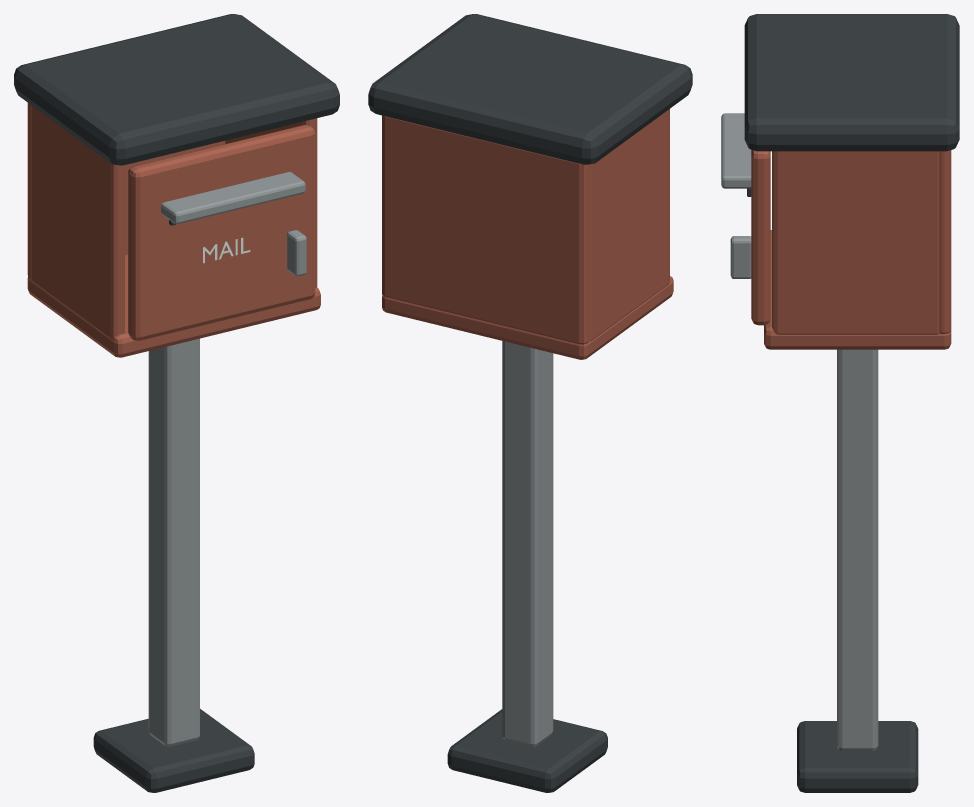
File: MS_SP_11_Mailbox.glb
3 views of the same model, side by side, from view 1: azimuth 30°, elevation 25°; view 2: azimuth 150°, elevation 25°; view 3: azimuth 270°, elevation 25° (orthographic). The views are drawn at different scales.
Parts seen in each view (by area): view 1: WeatherCap, Front, Post, Side, Foot, Floor, RainHood, Rear, Side.001, Pull; view 2: Rear, WeatherCap, Post, Side, Foot, Floor; view 3: Side.001, WeatherCap, Post, Foot, Front, Floor, Rear, RainHood, Pull.
Boxes of the visible parts, x1,y1,x2,y2 form: WeatherCap: (14,14,339,165); Front: (128,125,315,340); Post: (148,338,199,746); Side: (31,106,124,338); Foot: (93,709,254,792); Floor: (27,255,320,357); RainHood: (161,172,305,224); Rear: (27,103,225,279); Side.001: (225,118,317,287); Pull: (287,230,306,276); Rear: (382,115,589,344); WeatherCap: (368,14,692,164); Post: (502,341,553,746); Side: (589,109,669,341); Foot: (447,709,607,792); Floor: (382,276,673,359); Side.001: (772,151,939,334); WeatherCap: (744,14,959,151); Post: (837,349,878,750); Foot: (797,721,918,792); Front: (751,149,770,325); Floor: (764,230,951,349); Rear: (939,150,951,333); RainHood: (721,113,751,188); Pull: (730,236,751,278).
Size of the model in its own units: 0.49 by 1.41 by 0.432.
